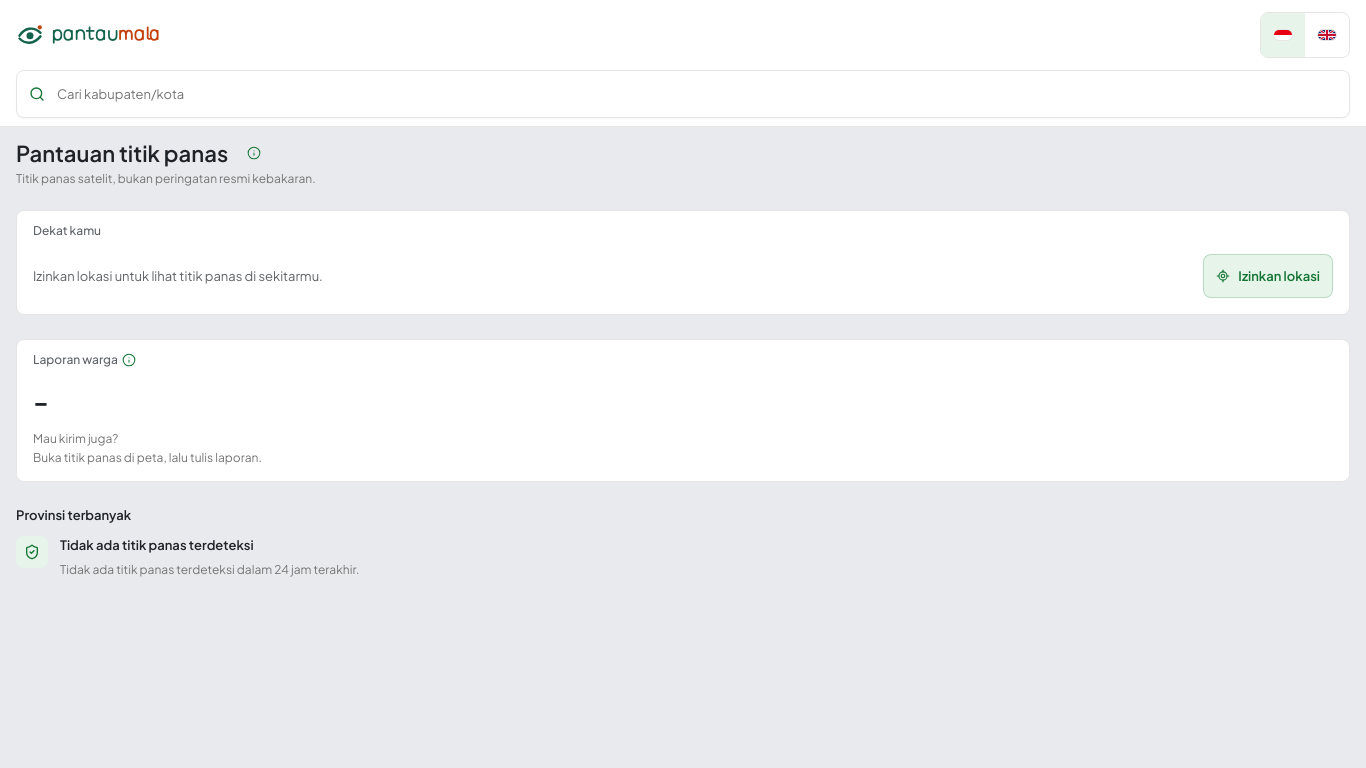
Test: SummaryPanel states › keeps search input focused when switching to results
The width and height of the screenshot is (1366, 768).
Type "pulang" into the field labelled "Cari kabupaten/kota" at (697, 94), box [57,71,1337,117]
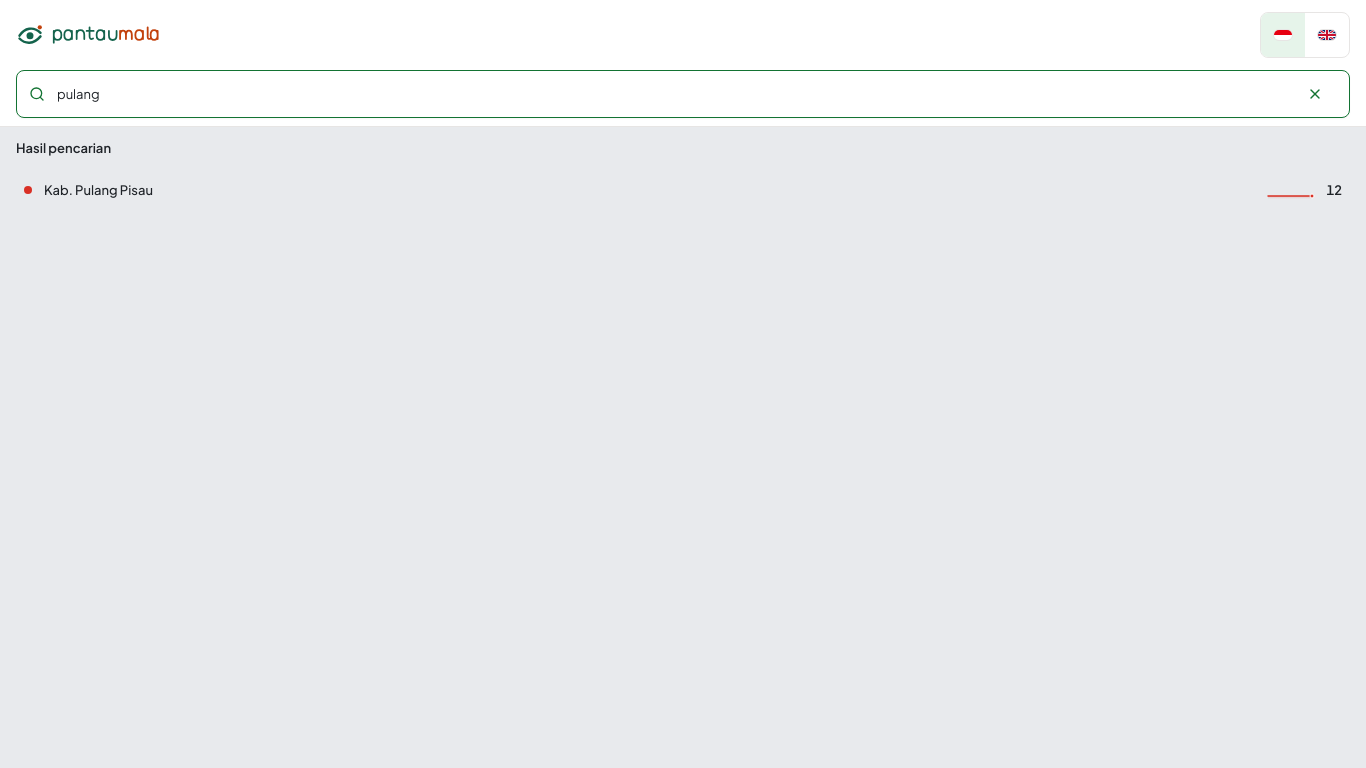
Now the heading "Hasil pencarian" is shown, box [16,140,111,156]
